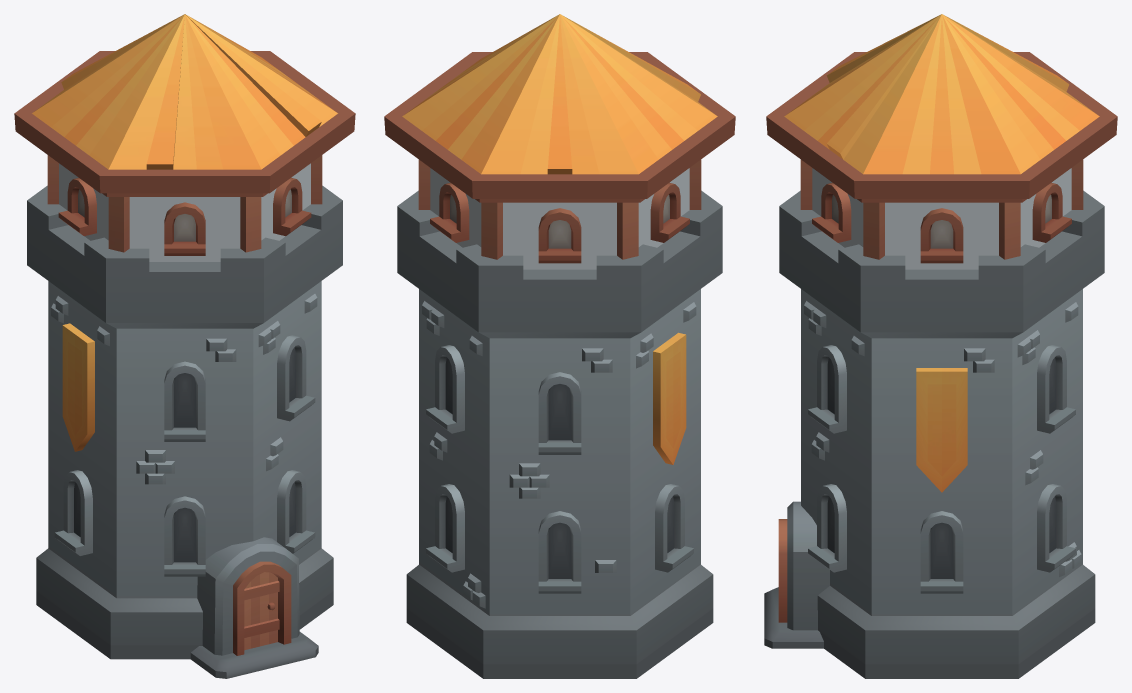
Rendered from building_tower_A_yellow.gltf.
3 renders of one model, left to right at view 1: azimuth 30°, elevation 25°; view 2: azimuth 150°, elevation 25°; view 3: azimuth 270°, elevation 25°, orthographic. The views are drawn at different scales.
Visible parts, largest first — view 1: building_tower_A_yellow, building_tower_A_top_yellow; view 2: building_tower_A_yellow, building_tower_A_top_yellow; view 3: building_tower_A_yellow, building_tower_A_top_yellow.
Part boxes in pixels (left/top/right/bottom): building_tower_A_yellow: left=27, top=185, right=342, bottom=678; building_tower_A_top_yellow: left=14, top=14, right=355, bottom=261; building_tower_A_yellow: left=397, top=190, right=722, bottom=678; building_tower_A_top_yellow: left=384, top=14, right=735, bottom=269; building_tower_A_yellow: left=764, top=190, right=1104, bottom=678; building_tower_A_top_yellow: left=766, top=14, right=1117, bottom=269.
Bounding box in the file's own units: 0.9933 × 2.19 × 1.15.
Materials: 1 (1 with a texture image).
